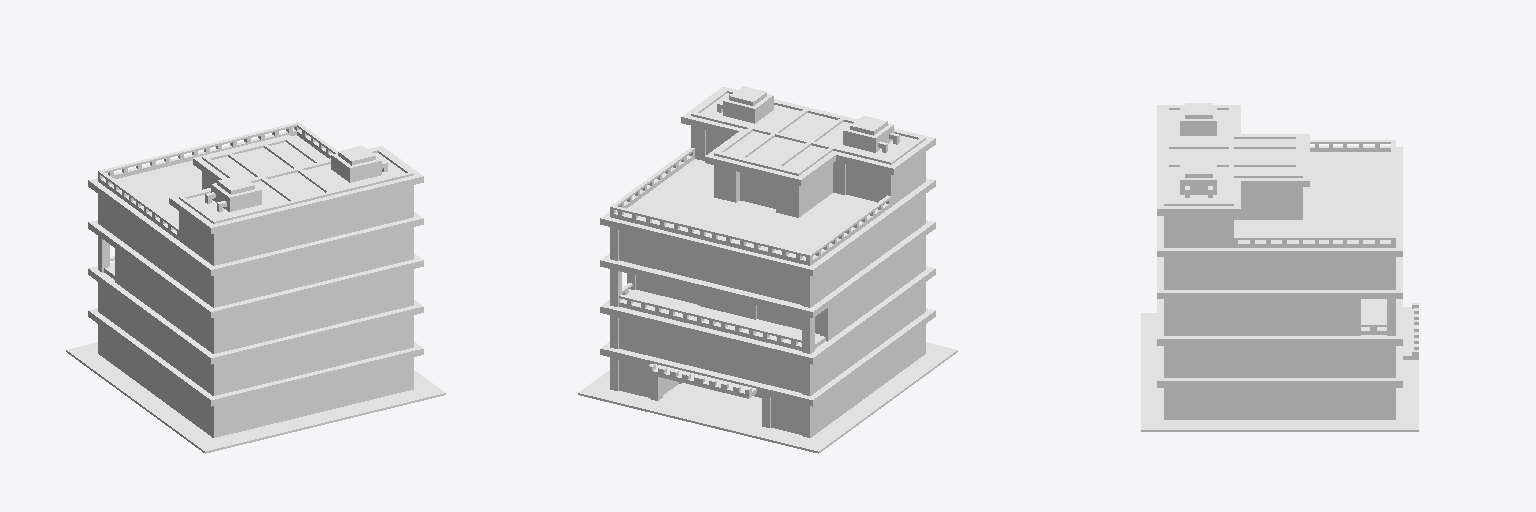
The model's file is Home_1.obj.
The picture shows the model from 3 angles: view 1: azimuth 30°, elevation 25°; view 2: azimuth 150°, elevation 25°; view 3: azimuth 270°, elevation 25°; orthographic projection.
Parts seen in each view (by area): view 1: object 1; view 2: object 1; view 3: object 1.
Part boxes in pixels (x1,y1,x2,y2): object 1: (66,122,445,453); object 1: (578,86,957,453); object 1: (1141,103,1418,431).
Size of the model in its own units: 12 by 11.2 by 12.